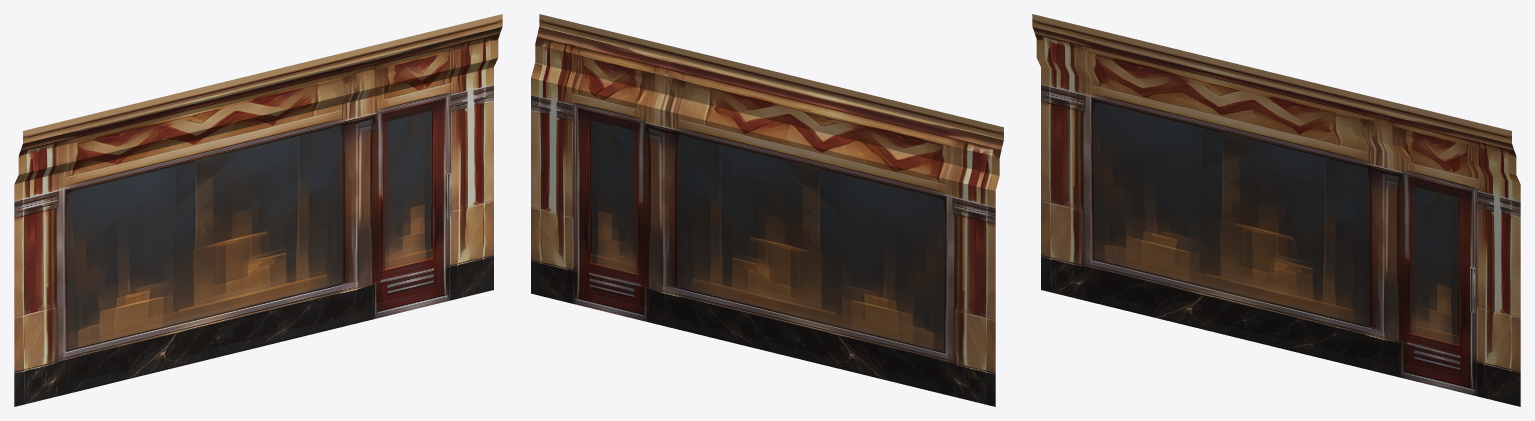
File: DECO_G_Bay8A.fbx
The picture shows the model from 3 angles, left to right: view 1: azimuth 30°, elevation 25°; view 2: azimuth 150°, elevation 25°; view 3: azimuth 330°, elevation 25°; orthographic projection. The views are drawn at different scales.
Parts seen in each view (by area): view 1: DECO_G_Bay8A; view 2: DECO_G_Bay8A; view 3: DECO_G_Bay8A.
Part boxes in pixels (<box>): DECO_G_Bay8A: <box>14,14,502,406</box>; DECO_G_Bay8A: <box>531,14,1003,406</box>; DECO_G_Bay8A: <box>1032,14,1520,406</box>.
Bounding box in the file's own units: 8 × 0.25 × 4.5.
Materials: 1 (1 with a texture image).
